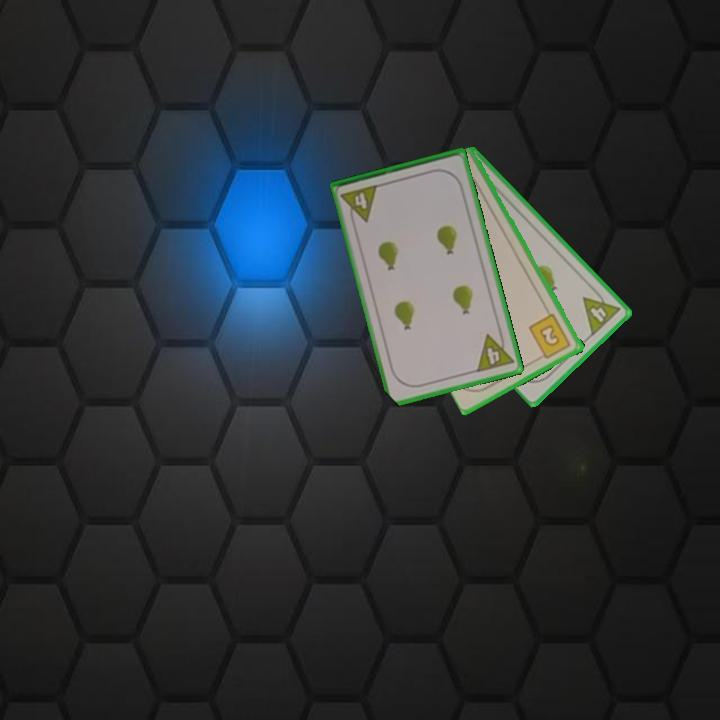2b: (525, 310, 574, 363)
4p: (579, 284, 623, 339), (473, 328, 517, 375), (337, 181, 381, 227)
